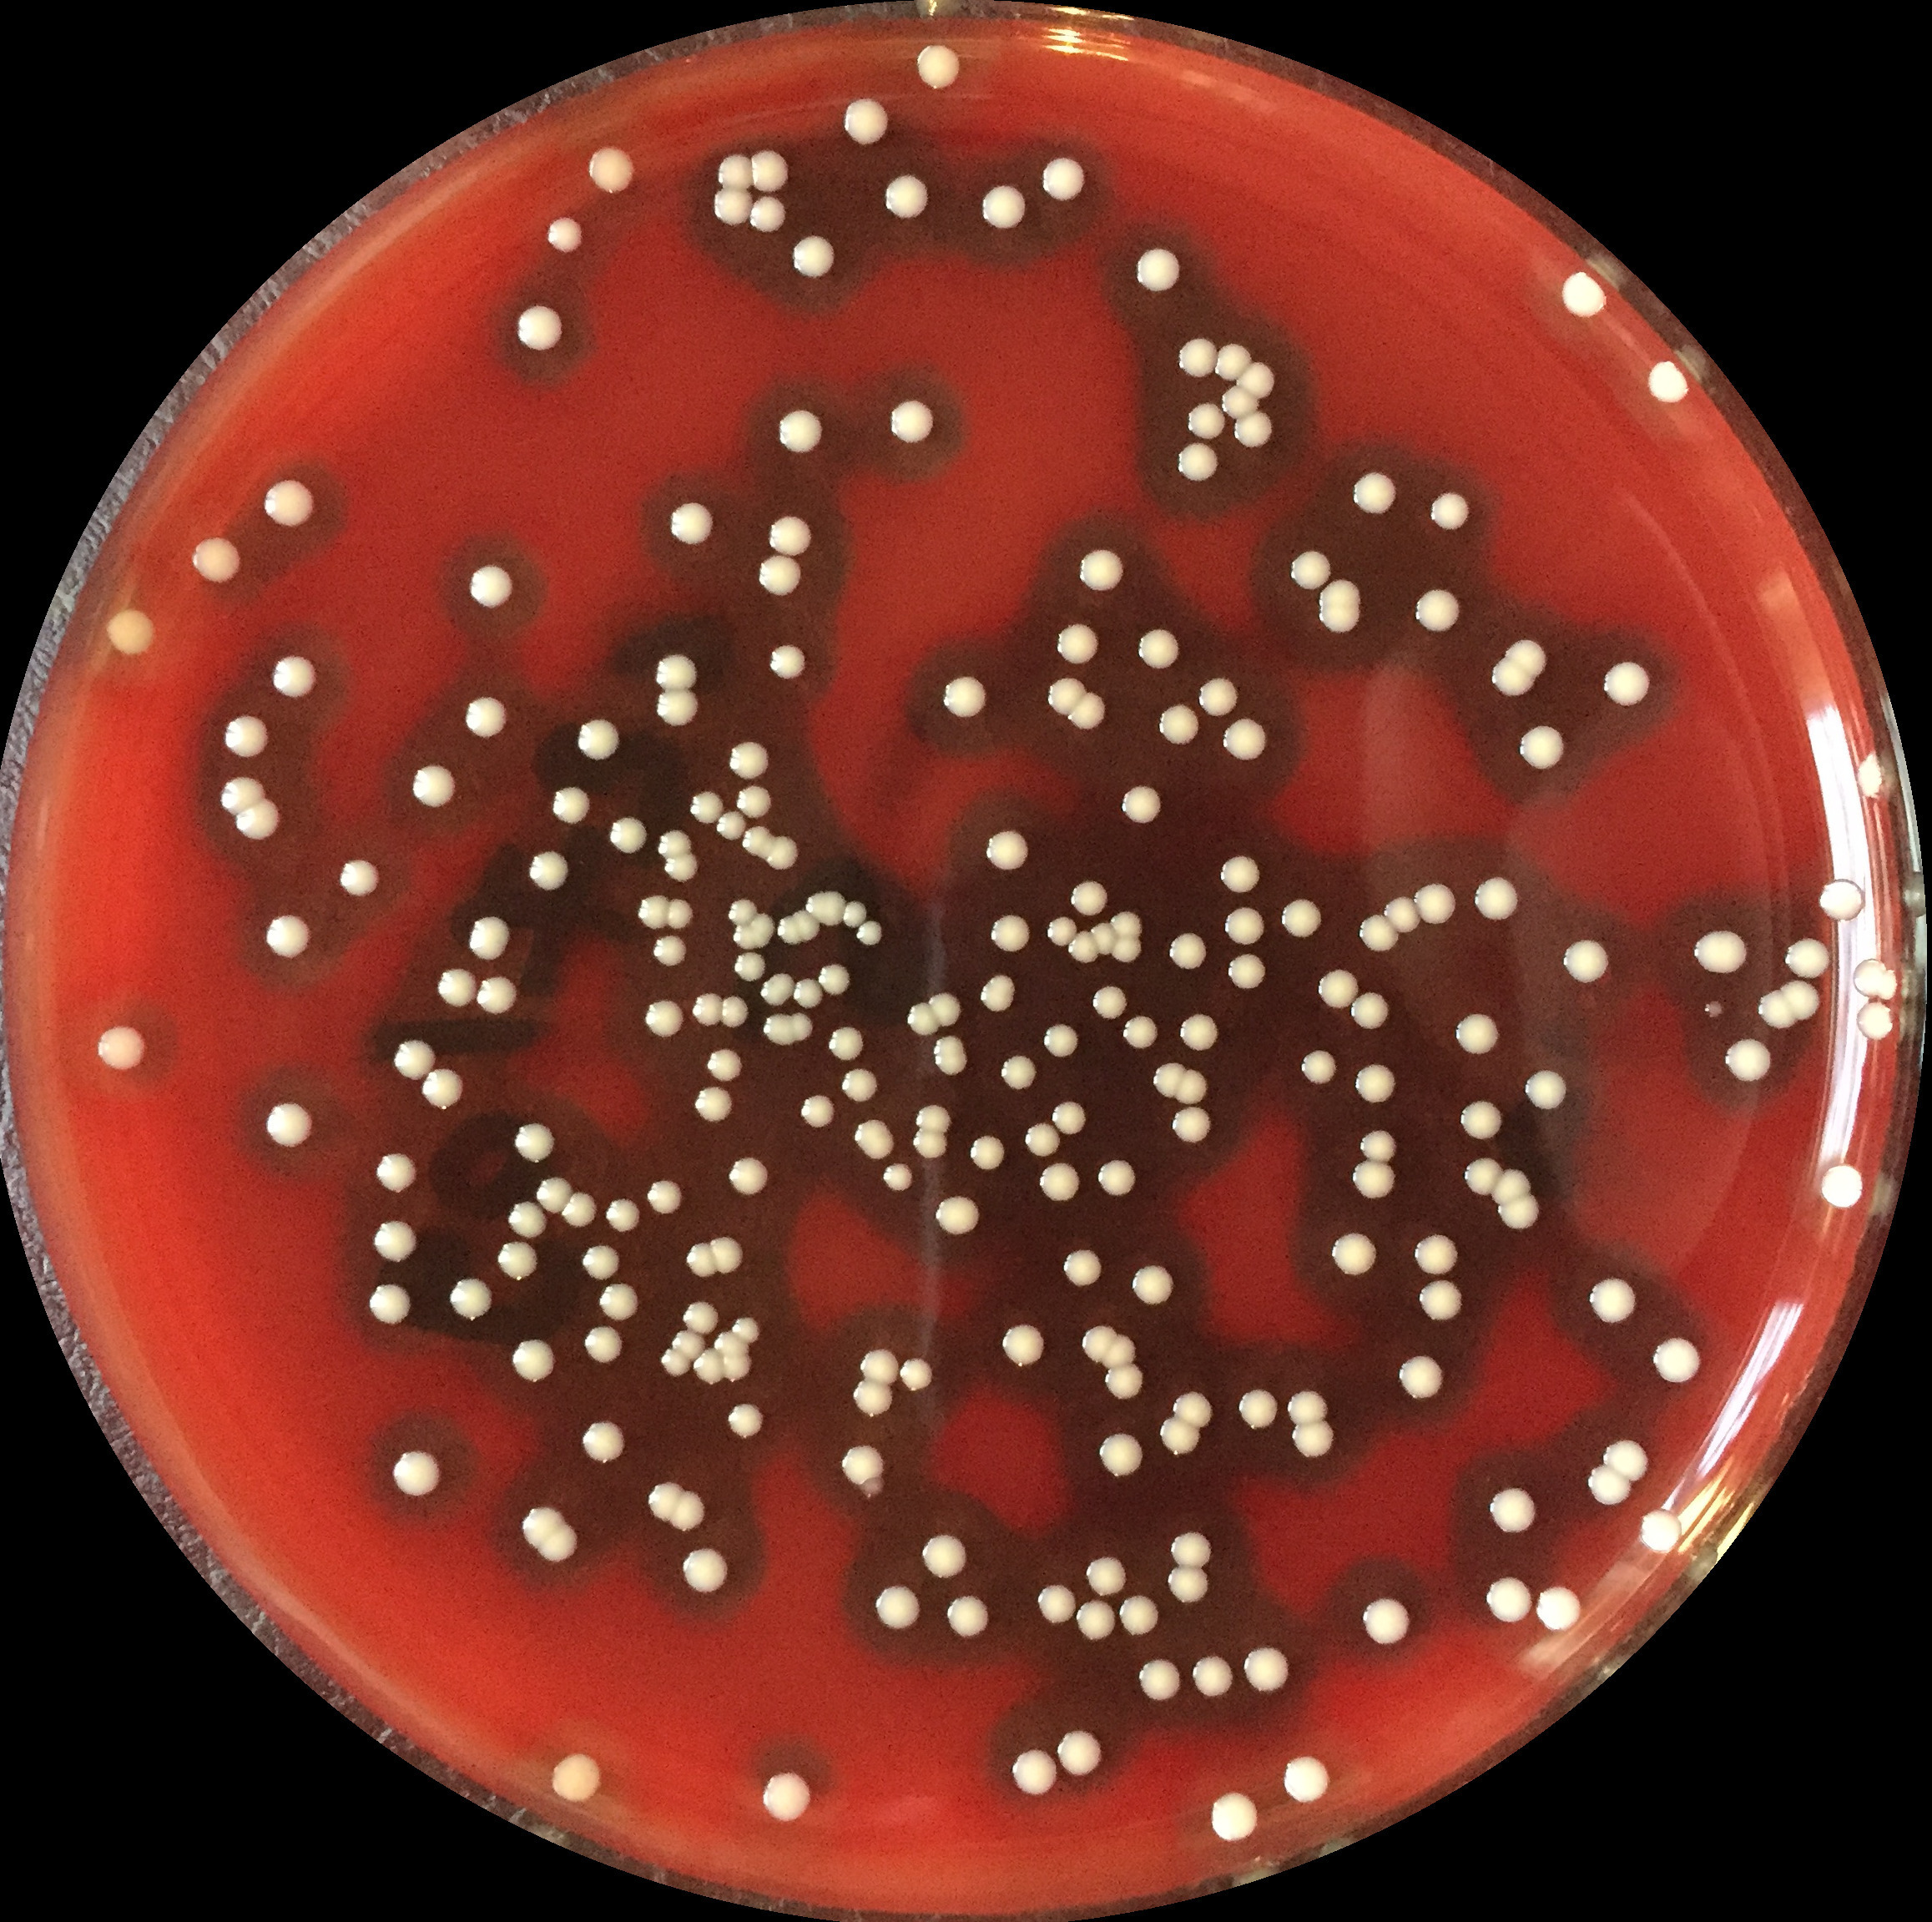sp21: (544, 1750, 616, 1808), (757, 1769, 816, 1832), (90, 1024, 158, 1077), (1387, 1352, 1452, 1406), (1202, 1790, 1267, 1845), (259, 477, 324, 532), (1314, 574, 1367, 641), (1554, 266, 1614, 324), (977, 181, 1035, 239), (582, 141, 642, 197), (658, 498, 720, 553), (1358, 1593, 1420, 1647), (1446, 1009, 1510, 1061), (908, 40, 968, 95), (1645, 1334, 1705, 1389), (333, 854, 392, 908), (1689, 926, 1753, 977), (1598, 657, 1656, 711), (1277, 1753, 1336, 1808), (1323, 1229, 1383, 1281), (259, 649, 318, 702), (880, 171, 936, 225), (1557, 933, 1615, 986), (1006, 1746, 1065, 1799), (771, 407, 831, 458), (1413, 583, 1464, 642), (1775, 935, 1835, 986), (677, 1545, 737, 1596), (387, 1452, 447, 1503), (257, 905, 317, 956), (1642, 348, 1691, 410), (1348, 466, 1402, 521), (885, 398, 941, 451), (442, 1273, 498, 1325), (259, 1098, 317, 1149), (185, 535, 246, 583), (99, 611, 162, 657), (838, 95, 890, 150), (512, 303, 567, 356), (1214, 711, 1267, 766), (1482, 1574, 1534, 1628), (463, 560, 519, 611), (1040, 153, 1093, 206), (1050, 620, 1105, 671), (1469, 873, 1524, 924), (1585, 1274, 1640, 1325), (1580, 1459, 1635, 1510), (1529, 1582, 1584, 1633), (524, 848, 579, 899), (1130, 625, 1186, 674), (406, 762, 463, 811), (231, 796, 287, 845), (1050, 1728, 1109, 1776), (1153, 701, 1205, 752), (1274, 894, 1327, 945), (1814, 1160, 1867, 1211), (1812, 875, 1867, 924), (1239, 1646, 1293, 1695), (1172, 1010, 1230, 1056), (867, 1586, 927, 1630), (996, 1320, 1047, 1371), (762, 512, 815, 561), (1519, 1067, 1571, 1116), (1091, 1434, 1153, 1477), (1485, 1487, 1538, 1537), (1028, 1582, 1080, 1632), (918, 1531, 971, 1581), (579, 1415, 632, 1464), (509, 1116, 561, 1165), (574, 713, 623, 766), (1218, 901, 1272, 949), (516, 1503, 570, 1551), (385, 1037, 440, 1084), (431, 965, 486, 1012), (707, 181, 757, 232), (1135, 245, 1186, 294), (1485, 655, 1536, 704), (1517, 722, 1566, 773), (1411, 1229, 1462, 1278), (1416, 1274, 1467, 1324), (1186, 1653, 1235, 1704), (417, 1063, 466, 1114), (220, 711, 271, 760), (1073, 547, 1126, 595), (1193, 674, 1246, 722), (1311, 966, 1364, 1014), (1056, 1244, 1109, 1292), (364, 1281, 417, 1329), (370, 1216, 422, 1264), (465, 913, 512, 966), (751, 553, 806, 598), (1721, 1037, 1775, 1082), (927, 1193, 985, 1236), (505, 1339, 563, 1382), (984, 908, 1033, 957), (1172, 333, 1219, 384), (721, 1153, 772, 1200), (1017, 1119, 1068, 1167), (211, 774, 271, 815), (938, 674, 991, 720), (1116, 781, 1168, 827), (1348, 1156, 1401, 1202), (709, 150, 764, 194), (978, 829, 1033, 873), (1286, 544, 1336, 591), (1503, 632, 1552, 679), (371, 1146, 419, 1195), (848, 1112, 896, 1162), (1172, 438, 1223, 484), (1348, 1060, 1399, 1105), (1601, 1434, 1652, 1480), (1135, 1658, 1186, 1704), (463, 693, 509, 745), (651, 685, 702, 730), (1422, 488, 1475, 532), (788, 234, 836, 282), (945, 1593, 992, 1640), (690, 1079, 737, 1126), (746, 148, 795, 194), (743, 192, 788, 241), (1218, 850, 1263, 899), (1116, 1595, 1165, 1640), (475, 972, 524, 1017), (1237, 1385, 1281, 1436), (1128, 1264, 1179, 1308), (836, 1438, 887, 1482), (848, 1375, 899, 1419), (699, 1042, 750, 1086), (1221, 952, 1274, 994), (1450, 1100, 1504, 1141), (1181, 400, 1228, 445), (1411, 882, 1459, 928), (927, 1033, 975, 1079), (1636, 1508, 1682, 1556), (593, 1278, 640, 1324), (505, 1192, 551, 1239), (542, 209, 586, 259), (1351, 912, 1401, 956), (651, 648, 700, 692), (764, 641, 813, 685), (1035, 1160, 1086, 1202), (1165, 1530, 1216, 1572), (1080, 1556, 1131, 1598), (1853, 750, 1892, 804), (1165, 1563, 1211, 1609), (857, 1345, 903, 1390), (581, 1320, 626, 1366), (554, 1186, 600, 1232), (1232, 407, 1279, 451), (1165, 928, 1212, 972), (973, 975, 1022, 1017), (1489, 1163, 1538, 1206), (1460, 1155, 1504, 1200), (1168, 1389, 1214, 1433), (642, 1478, 688, 1522), (642, 1176, 688, 1220), (545, 781, 591, 825), (1344, 991, 1392, 1033), (1103, 1361, 1151, 1403), (667, 1487, 709, 1535), (723, 739, 771, 781), (1091, 1158, 1140, 1199), (1228, 361, 1279, 400), (1290, 1422, 1343, 1459), (1779, 977, 1823, 1021), (802, 884, 846, 928), (1038, 1019, 1084, 1061), (1295, 1045, 1341, 1088), (1153, 1415, 1198, 1457), (644, 994, 686, 1040), (758, 1005, 801, 1051), (822, 1021, 867, 1063), (734, 910, 779, 952), (962, 1132, 1008, 1174), (1855, 996, 1895, 1044), (1077, 1595, 1117, 1642), (720, 1399, 767, 1440), (755, 968, 802, 1009), (1063, 690, 1112, 729), (994, 1054, 1043, 1093), (1168, 1105, 1218, 1144), (528, 1174, 577, 1213), (1212, 340, 1255, 384), (1047, 1098, 1091, 1141), (894, 1357, 936, 1401), (677, 1297, 721, 1339), (688, 1345, 730, 1389), (496, 1234, 538, 1278), (1379, 894, 1425, 935), (1087, 984, 1133, 1024), (706, 1230, 746, 1276), (600, 1195, 646, 1236), (795, 1089, 841, 1130), (535, 1526, 582, 1565), (1492, 1197, 1541, 1234), (1754, 987, 1797, 1030), (1043, 674, 1084, 718), (924, 987, 964, 1031), (605, 815, 649, 855), (896, 1003, 943, 1040), (1068, 878, 1110, 919), (1172, 1065, 1212, 1107), (1848, 957, 1890, 998), (737, 822, 778, 864), (1218, 382, 1262, 421), (735, 780, 774, 824), (658, 852, 706, 887), (681, 1243, 721, 1283), (839, 1067, 880, 1107), (1119, 1012, 1161, 1051), (1149, 1060, 1188, 1102), (1098, 1332, 1140, 1371), (1284, 1389, 1328, 1426), (813, 959, 857, 996), (653, 827, 697, 864), (1357, 1128, 1402, 1163), (581, 1243, 623, 1280), (683, 790, 725, 827), (635, 889, 670, 933), (1077, 1324, 1117, 1361), (649, 931, 690, 968), (651, 1345, 693, 1380), (669, 1325, 706, 1364), (1061, 931, 1103, 965), (718, 1352, 757, 1387), (663, 894, 697, 935), (1105, 935, 1142, 970), (728, 1309, 764, 1346), (690, 991, 725, 1028), (913, 1098, 948, 1135), (730, 949, 765, 986), (834, 894, 869, 931), (1105, 906, 1144, 940), (878, 1158, 917, 1192), (713, 810, 751, 843), (716, 991, 748, 1031), (794, 903, 825, 943), (1086, 921, 1119, 957), (767, 834, 801, 871), (794, 972, 825, 1010), (1042, 915, 1077, 949), (713, 1327, 750, 1359), (721, 892, 758, 924), (853, 915, 887, 949), (913, 1128, 948, 1160), (788, 1009, 818, 1045), (1694, 994, 1730, 1023), (857, 1473, 889, 1503), (772, 910, 801, 943)
